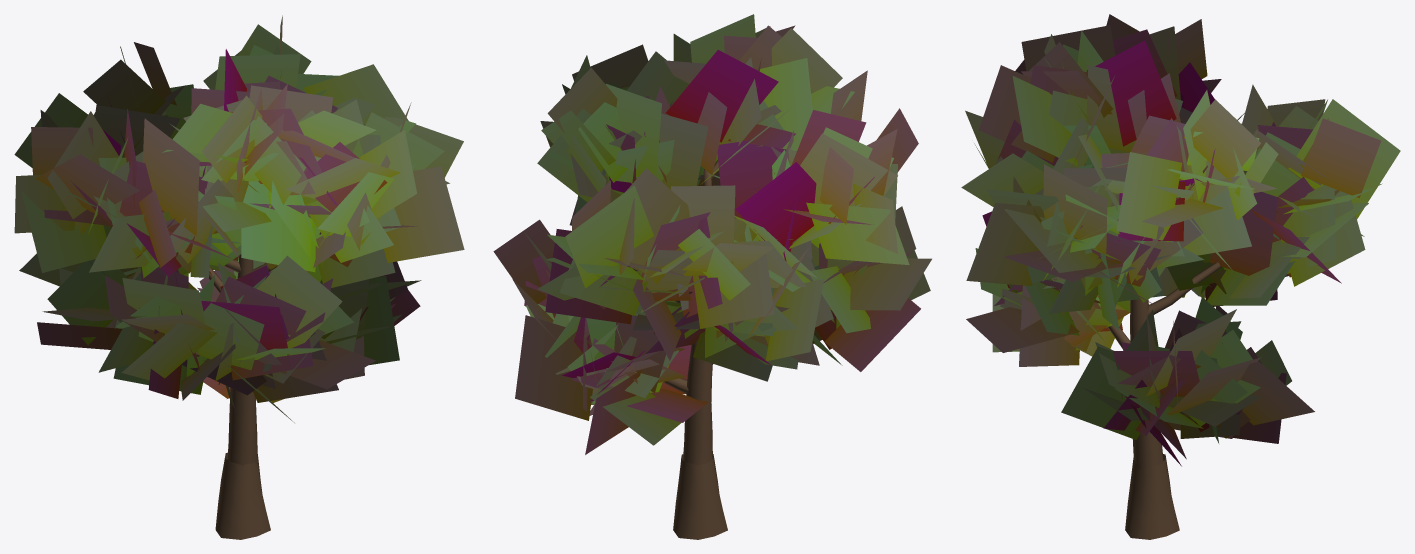
File: tree_apple_1.glb
The picture shows the model from 3 angles, left to right: view 1: azimuth 30°, elevation 25°; view 2: azimuth 150°, elevation 25°; view 3: azimuth 270°, elevation 25°; orthographic projection.
Visible parts, largest first — view 1: Leaves, Trunk; view 2: Leaves, Trunk; view 3: Leaves, Trunk.
Boxes of the visible parts, x1,y1,x2,y2 form: Leaves: [14, 15, 464, 422]; Trunk: [192, 232, 321, 539]; Leaves: [493, 14, 931, 454]; Trunk: [627, 159, 759, 539]; Leaves: [961, 14, 1400, 466]; Trunk: [1072, 165, 1221, 539].
Bounding box in the file's own units: 4.13 × 4.7 × 3.91.
